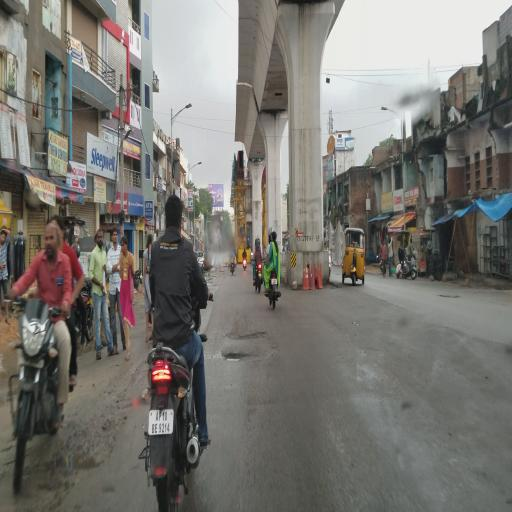street_light_0: (378, 94, 406, 124), (170, 97, 194, 116), (186, 155, 204, 179)
